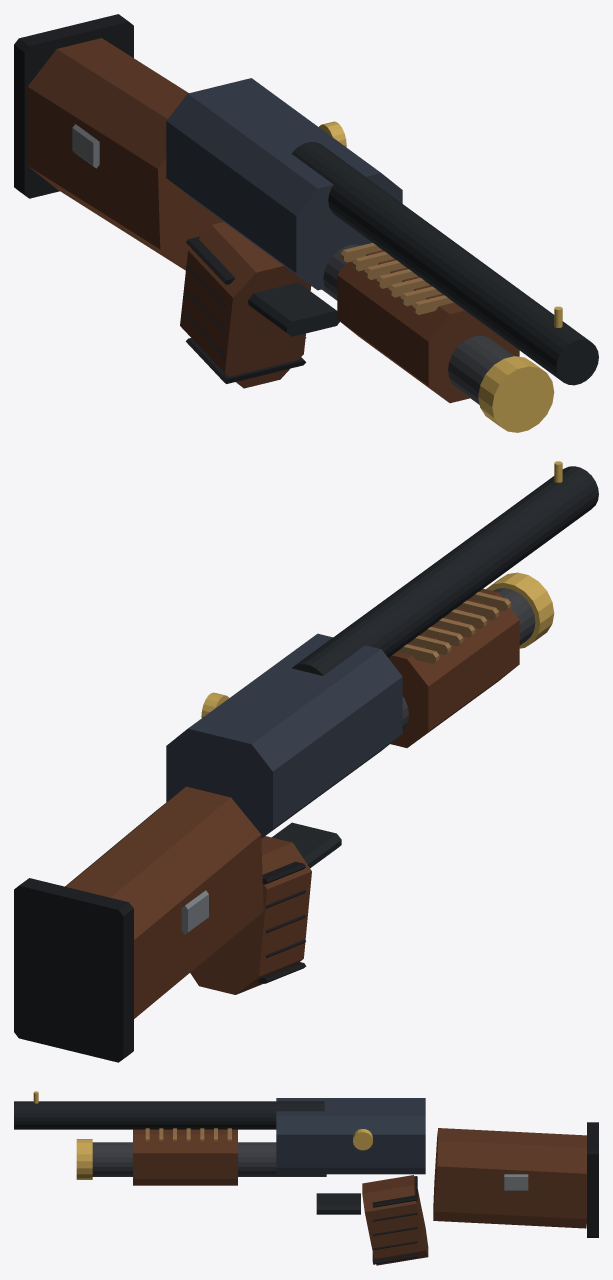
The model's file is 05_Riot12_Pump_Shotgun.obj.
The picture shows the model from 3 angles, top to bottom: view 1: azimuth 30°, elevation 25°; view 2: azimuth 150°, elevation 25°; view 3: azimuth 270°, elevation 25°; orthographic projection. The views are drawn at different scales.
Parts seen in each view (by area): view 1: 012_Wood_Stock, 000_Forged_Receiver, 001_Rifled_Game_Barrel, 014_Angled_Grip, 004_Slide_Pump, 013_Butt_Pad, 003_Tube_Cap, 020_TriggerGuard, 002_Magazine_Tube, 015_Grip_Stipple_0, 023_Sling_Mount, 019_Grip_Stipple_4; view 2: 000_Forged_Receiver, 012_Wood_Stock, 013_Butt_Pad, 001_Rifled_Game_Barrel, 004_Slide_Pump, 014_Angled_Grip, 003_Tube_Cap, 020_TriggerGuard, 002_Magazine_Tube, 023_Sling_Mount; view 3: 012_Wood_Stock, 000_Forged_Receiver, 001_Rifled_Game_Barrel, 004_Slide_Pump, 014_Angled_Grip, 002_Magazine_Tube, 013_Butt_Pad, 020_TriggerGuard, 003_Tube_Cap, 024_Sling_Mount, 022_Receiver_BreechPin, 019_Grip_Stipple_4.
Boxes of the visible parts, bbox=[...] form: 012_Wood_Stock: bbox=[27, 38, 223, 270]; 000_Forged_Receiver: bbox=[166, 78, 402, 290]; 001_Rifled_Game_Barrel: bbox=[292, 142, 598, 385]; 014_Angled_Grip: bbox=[180, 222, 311, 388]; 004_Slide_Pump: bbox=[337, 250, 519, 403]; 013_Butt_Pad: bbox=[14, 14, 133, 198]; 003_Tube_Cap: bbox=[478, 356, 554, 432]; 020_TriggerGuard: bbox=[248, 282, 339, 336]; 002_Magazine_Tube: bbox=[322, 244, 514, 404]; 015_Grip_Stipple_0: bbox=[186, 338, 305, 383]; 023_Sling_Mount: bbox=[72, 124, 99, 168]; 019_Grip_Stipple_4: bbox=[186, 236, 235, 284]; 000_Forged_Receiver: bbox=[166, 633, 402, 838]; 012_Wood_Stock: bbox=[65, 786, 263, 1018]; 013_Butt_Pad: bbox=[14, 878, 133, 1062]; 001_Rifled_Game_Barrel: bbox=[292, 466, 598, 675]; 004_Slide_Pump: bbox=[388, 588, 519, 747]; 014_Angled_Grip: bbox=[190, 836, 311, 994]; 003_Tube_Cap: bbox=[486, 572, 554, 648]; 020_TriggerGuard: bbox=[272, 822, 341, 868]; 002_Magazine_Tube: bbox=[402, 588, 535, 730]; 023_Sling_Mount: bbox=[181, 890, 208, 934]; 012_Wood_Stock: bbox=[433, 1128, 586, 1228]; 000_Forged_Receiver: bbox=[276, 1098, 425, 1174]; 001_Rifled_Game_Barrel: bbox=[14, 1101, 324, 1129]; 004_Slide_Pump: bbox=[133, 1129, 237, 1185]; 014_Angled_Grip: bbox=[362, 1175, 428, 1265]; 002_Magazine_Tube: bbox=[92, 1142, 326, 1176]; 013_Butt_Pad: bbox=[587, 1122, 598, 1237]; 020_TriggerGuard: bbox=[316, 1193, 360, 1214]; 003_Tube_Cap: bbox=[76, 1139, 92, 1179]; 024_Sling_Mount: bbox=[504, 1174, 528, 1190]; 022_Receiver_BreechPin: bbox=[353, 1129, 372, 1150]; 019_Grip_Stipple_4: bbox=[372, 1176, 417, 1207].
Size of the model in its own units: 0.2 by 0.46 by 1.45.
